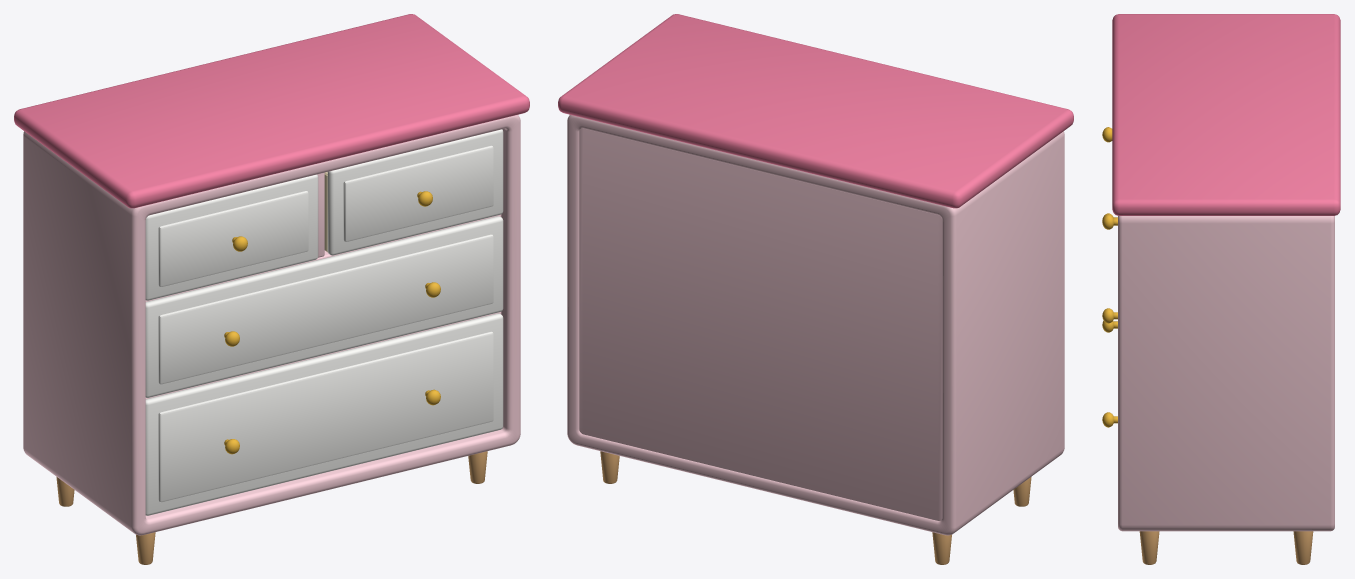
Rendered from comoda_4gavetas_rosa.glb.
3 renders of one model, left to right at view 1: azimuth 30°, elevation 25°; view 2: azimuth 150°, elevation 25°; view 3: azimuth 270°, elevation 25°, orthographic. The views are drawn at different scales.
Visible parts, largest first — view 1: comoda_4gavetas_rosa, gaveta_1, gaveta_2, gaveta_4, gaveta_3; view 2: comoda_4gavetas_rosa; view 3: comoda_4gavetas_rosa, gaveta_1.
Boxes of the visible parts, x1=… form: comoda_4gavetas_rosa: x1=14, y1=14, x2=529, y2=564; gaveta_1: x1=145, y1=313, x2=503, y2=515; gaveta_2: x1=145, y1=216, x2=503, y2=397; gaveta_4: x1=324, y1=129, x2=503, y2=255; gaveta_3: x1=145, y1=174, x2=318, y2=300; comoda_4gavetas_rosa: x1=558, y1=14, x2=1073, y2=564; comoda_4gavetas_rosa: x1=1112, y1=14, x2=1340, y2=564; gaveta_1: x1=1102, y1=320, x2=1117, y2=427.
Size of the model in its own units: 0.995 by 0.921 by 0.5271.
1 material, 1 textured.
